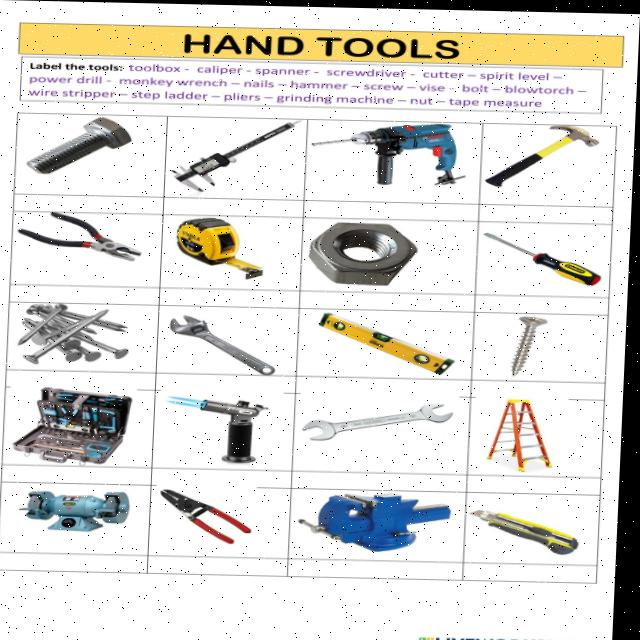Screwdriver: (485, 230, 603, 282)
